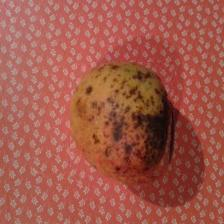Mango Semirotten: (71, 63, 177, 181)
